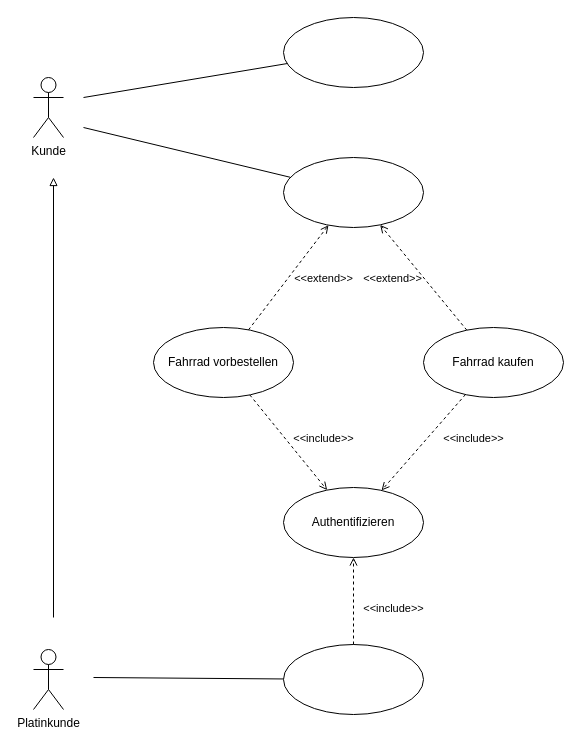
The diagram is 581 pixels wide and 748 high, and some of its shapes have lost their labels. Each missing label, with the centre of its shape:
"Fahrräder suchen" belongs at point 353,192.
"Frage an Beratung senden" belongs at point 353,52.
"Sortimentanpassung vorschlagen" belongs at point 353,679.
